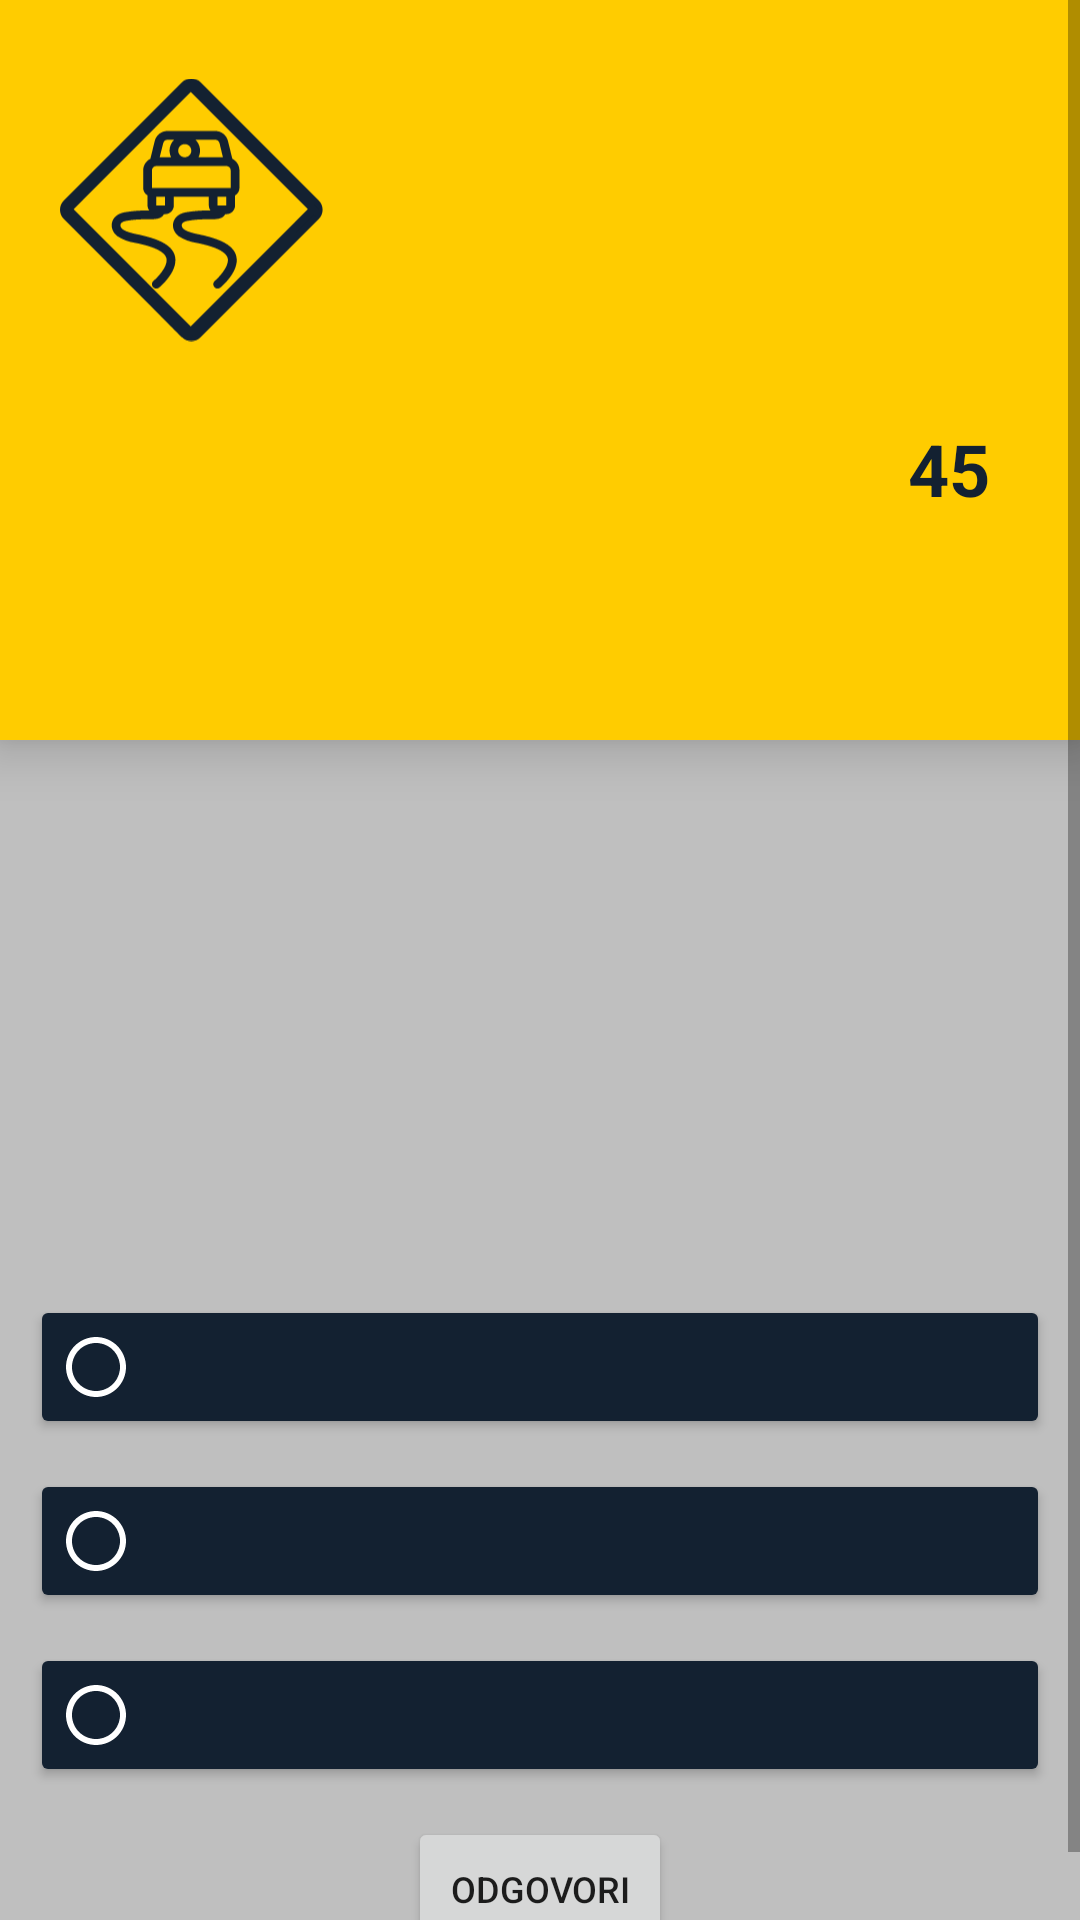

Screen size 1080×1920. Icon name, then its center in pixels as (x,y):
opasne situacije: (191,210)
